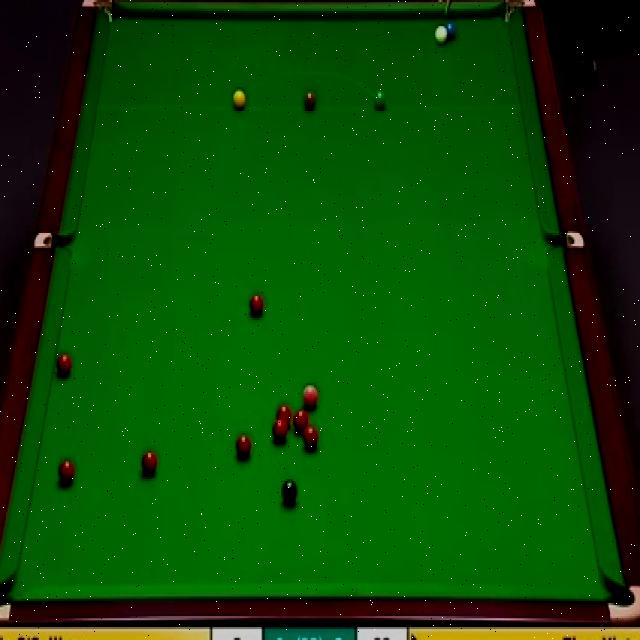black-ball: (280, 478, 299, 505)
blue-ball: (444, 20, 459, 40)
brown-ball: (304, 89, 318, 111)
green-ball: (372, 90, 388, 112)
pink-ball: (302, 382, 318, 410)
red-ball: (235, 432, 253, 461), (55, 350, 73, 377), (141, 449, 158, 477), (302, 423, 319, 449), (57, 458, 76, 481), (275, 403, 292, 428), (295, 406, 312, 430), (248, 293, 264, 318), (272, 419, 287, 441)
white-ball: (435, 25, 447, 44)
yellow-ball: (231, 88, 247, 110)
